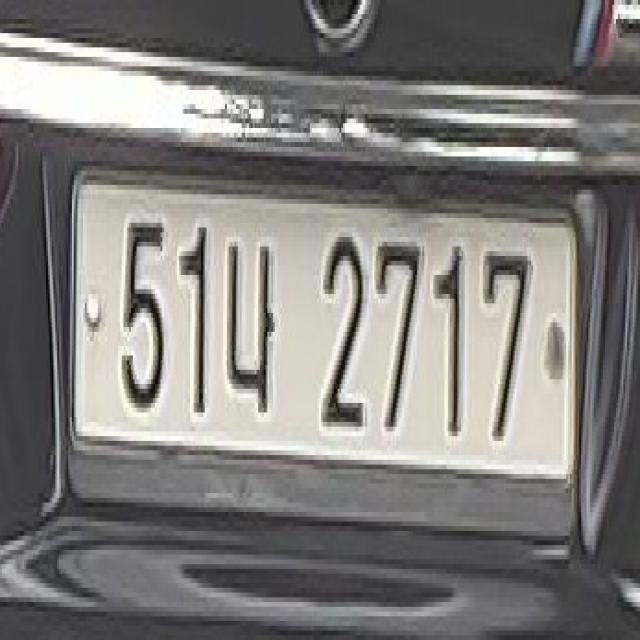1: (175, 206, 212, 432), (432, 239, 466, 442)
2: (320, 206, 370, 444)
5: (118, 205, 166, 426)
7: (374, 228, 426, 448), (481, 241, 535, 446)
license_plate: (45, 158, 595, 552)
na: (223, 228, 281, 428)
